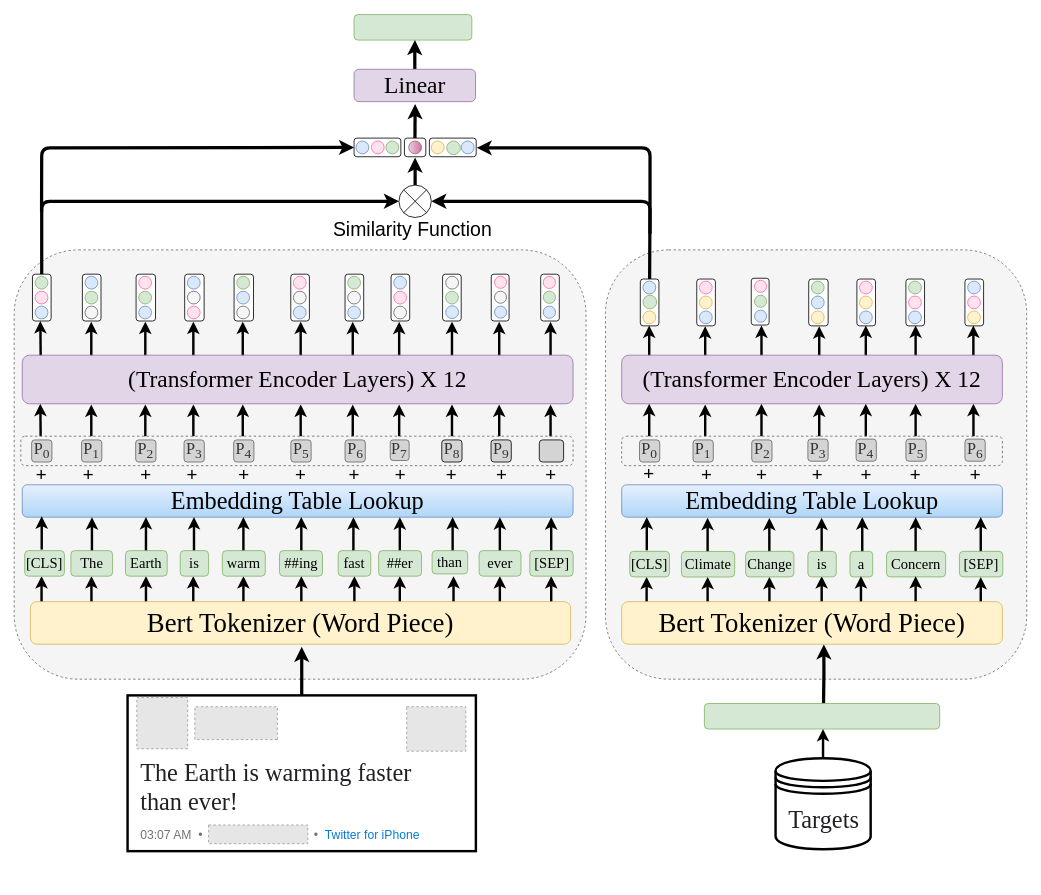
Some shapes in this 1041 by 895 pixel diagram are drawn without their labels. Grey dashed boxes stand in for pictures. Each missing label, with the box of its shape:
Climate Change is a Concern: (704, 703, 940, 729)
P 10: (538, 439, 564, 462)
Stance: Support: (353, 14, 472, 40)
